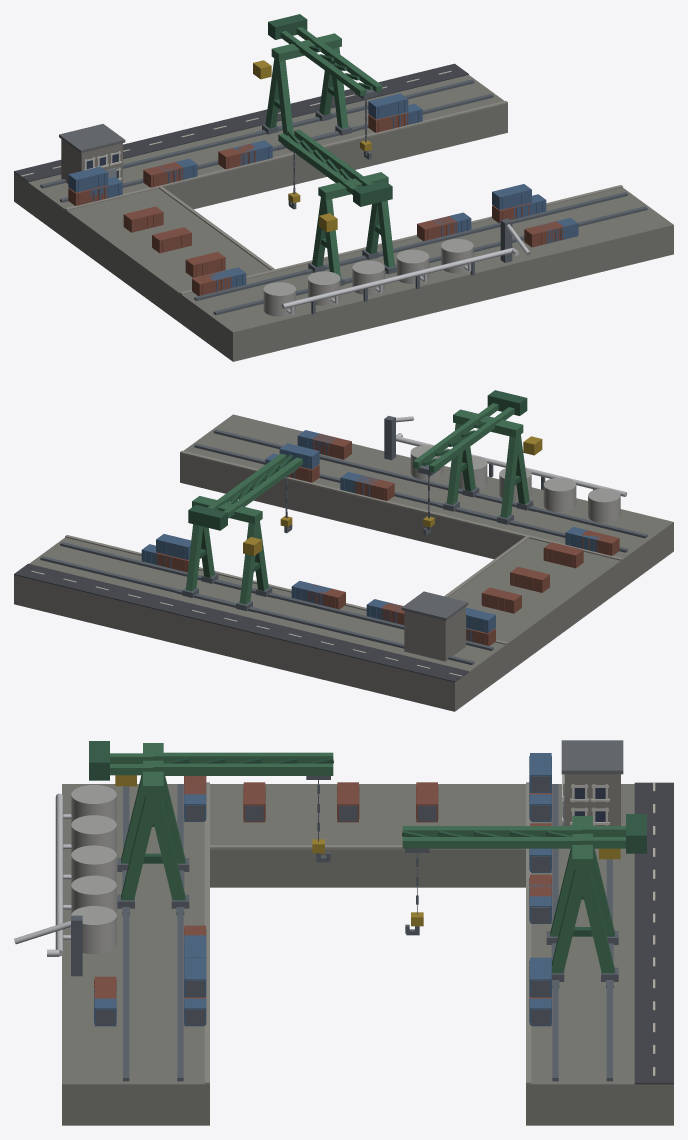
The model's file is port_lvl1.glb.
3 renders of one model, top to bottom at view 1: azimuth 30°, elevation 25°; view 2: azimuth 150°, elevation 25°; view 3: azimuth 270°, elevation 25°, orthographic. The views are drawn at different scales.
Visible parts, largest first — view 1: port; view 2: port; view 3: port.
Boxes of the visible parts, <box> form: port: <box>14,14,673,361</box>; port: <box>14,390,673,711</box>; port: <box>14,740,673,1125</box>.
Size of the model in its own units: 0.789 by 0.2175 by 0.7327.
